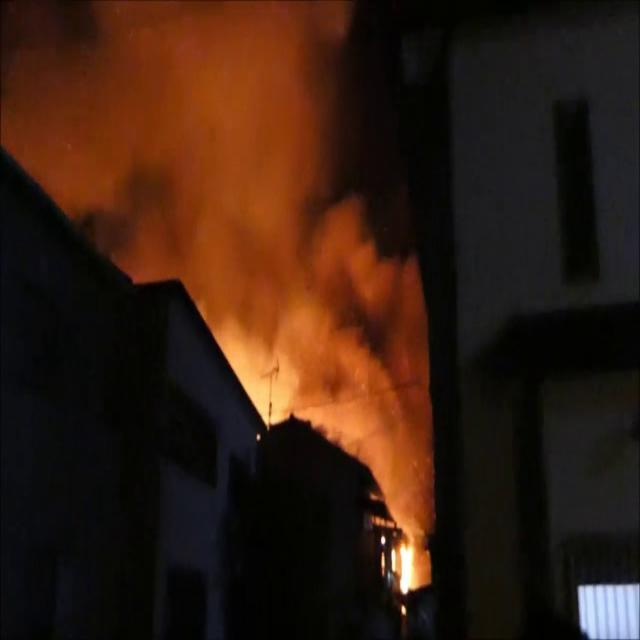Fire: (388, 514, 422, 616)
Smoke: (3, 0, 424, 554)
